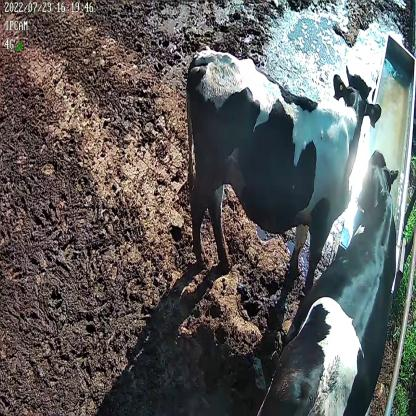cow: (184, 50, 382, 297), (256, 147, 400, 416)
